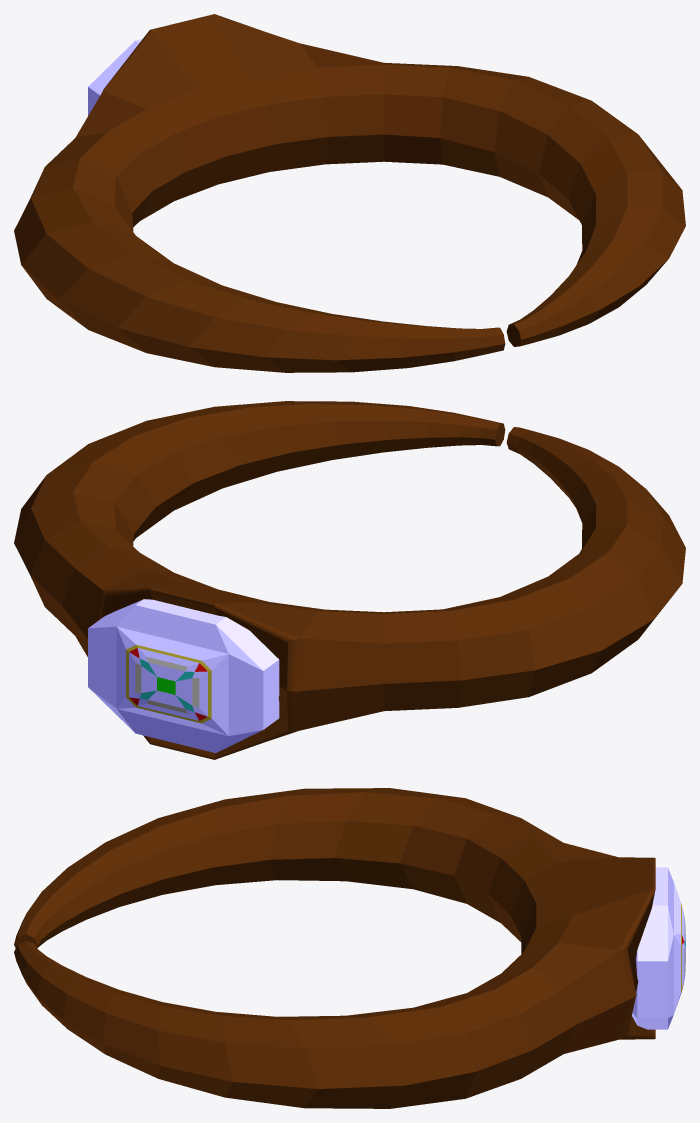
File: ring_bracelet.fbx
3 views of the same model, one above another, from view 1: azimuth 30°, elevation 25°; view 2: azimuth 150°, elevation 25°; view 3: azimuth 270°, elevation 25° (orthographic). The views are drawn at different scales.
Visible parts, largest first — view 1: Torus, Cube; view 2: Torus, Cube; view 3: Torus, Cube.
Part boxes in pixels (x1,y1,x2,y2): Torus: (14,14,685,372); Cube: (88,38,142,115); Torus: (14,401,685,759); Cube: (88,599,279,752); Torus: (14,788,655,1108); Cube: (632,867,685,1029).
Bounding box in the file's own units: 286 × 71.64 × 289.
